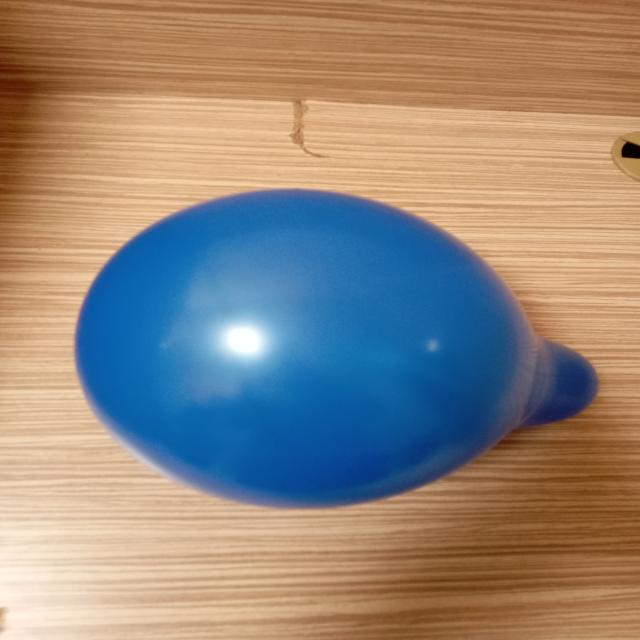balloon: (75, 189, 598, 507)
